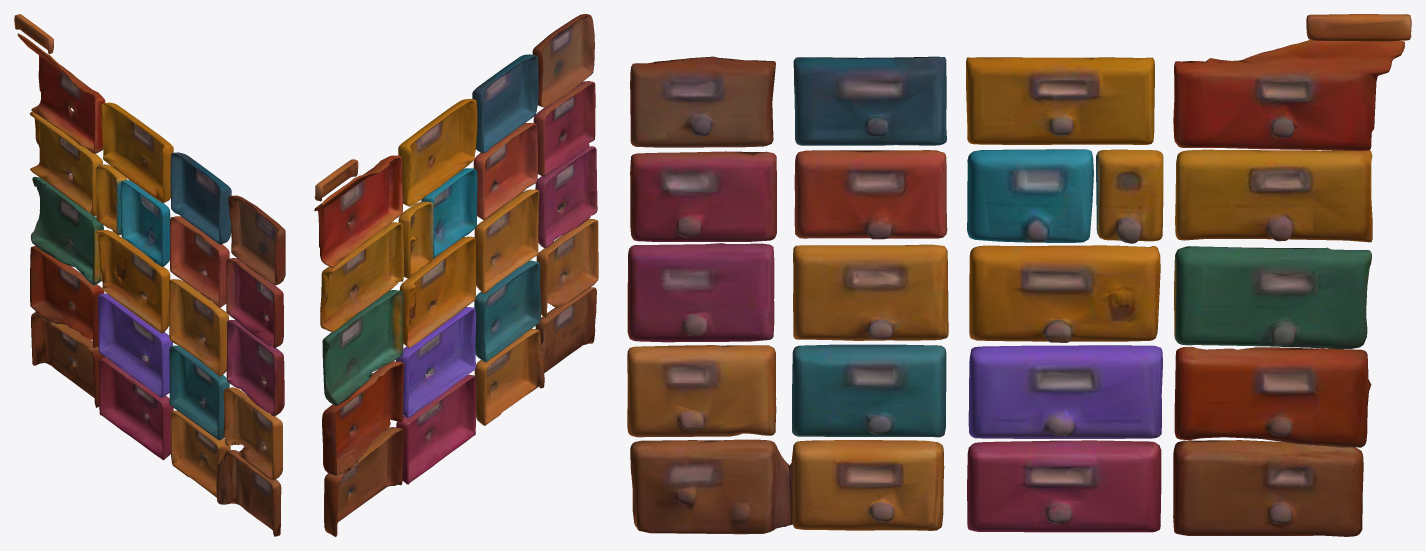
Rendered from patent_archive_wall.glb.
3 views of the same model, side by side, from view 1: azimuth 30°, elevation 25°; view 2: azimuth 150°, elevation 25°; view 3: azimuth 270°, elevation 25° (orthographic). The views are drawn at different scales.
Parts seen in each view (by area): view 1: tripo_node_d8404ec7-ca97-4b75-a6db-befcfe3e24ae; view 2: tripo_node_d8404ec7-ca97-4b75-a6db-befcfe3e24ae; view 3: tripo_node_d8404ec7-ca97-4b75-a6db-befcfe3e24ae.
Part boxes in pixels (<box>): tripo_node_d8404ec7-ca97-4b75-a6db-befcfe3e24ae: <box>14,14,285,536</box>; tripo_node_d8404ec7-ca97-4b75-a6db-befcfe3e24ae: <box>314,14,598,536</box>; tripo_node_d8404ec7-ca97-4b75-a6db-befcfe3e24ae: <box>627,14,1411,536</box>.
Bounding box in the file's own units: 0.0617 × 0.6871 × 0.9485.
Materials: 1 (1 with a texture image).
